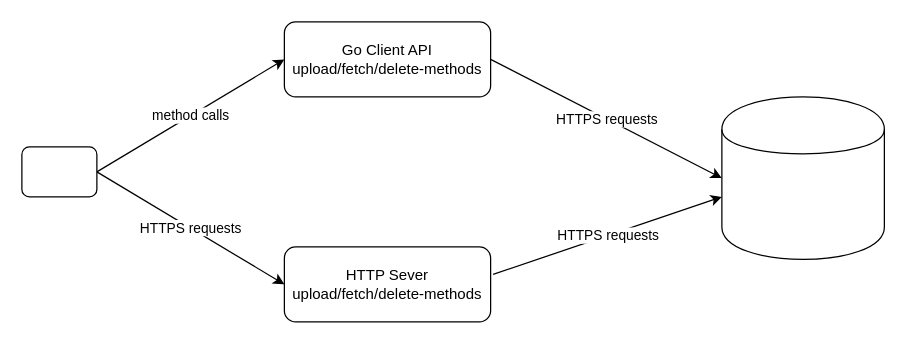
Some shapes in this 906 by 344 pixel diagram are drawn without their labels. The shapes that lost their labels are listed below. From the top down, each one's box as (x1, y1, x2, y2) in pixels, then its label:
(21, 146, 97, 197): Client
(721, 96, 884, 259): Backend (e.g. DB, github, OCI Registry)
